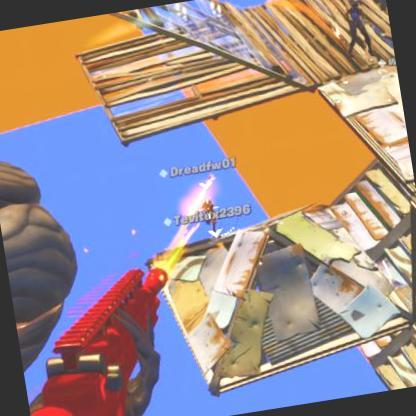person: (200, 199, 221, 232)
